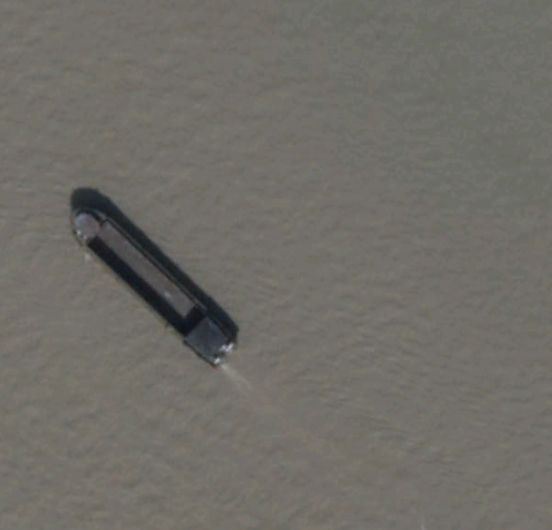boat: (67, 203, 241, 368)
